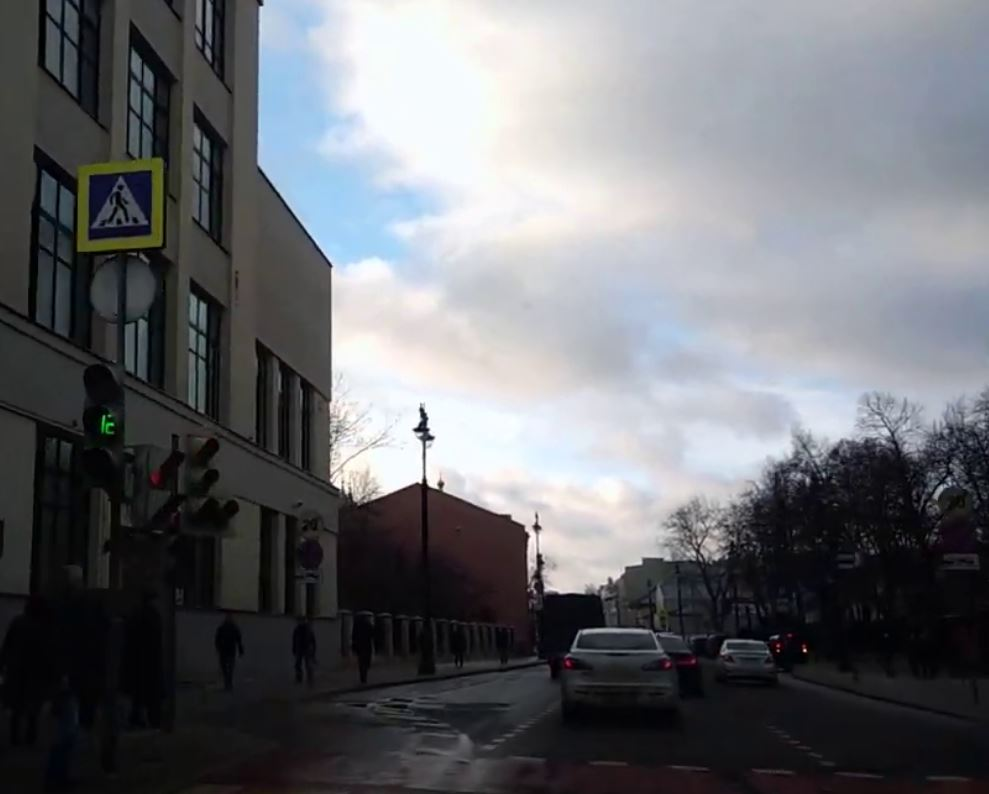Yaya Gecidi: (86, 173, 149, 239)
